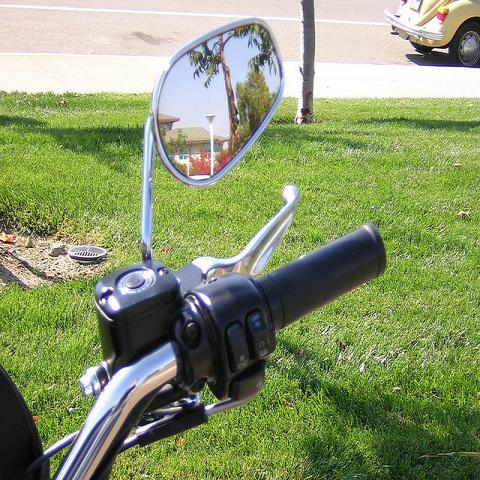car: (381, 1, 479, 67)
motorcycle: (1, 15, 386, 475)
